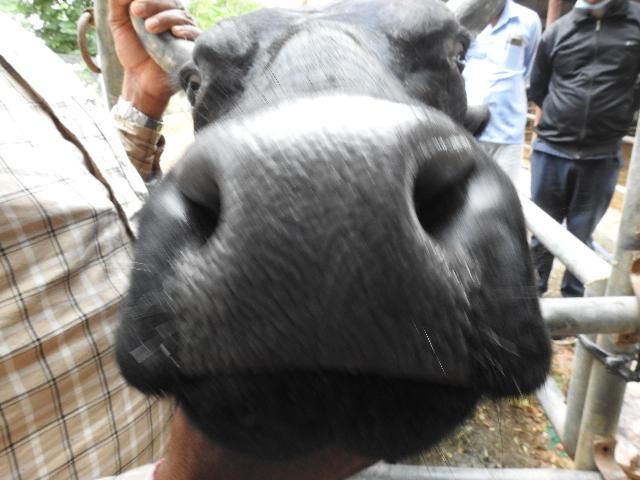Muzzle: (195, 133, 463, 375)
